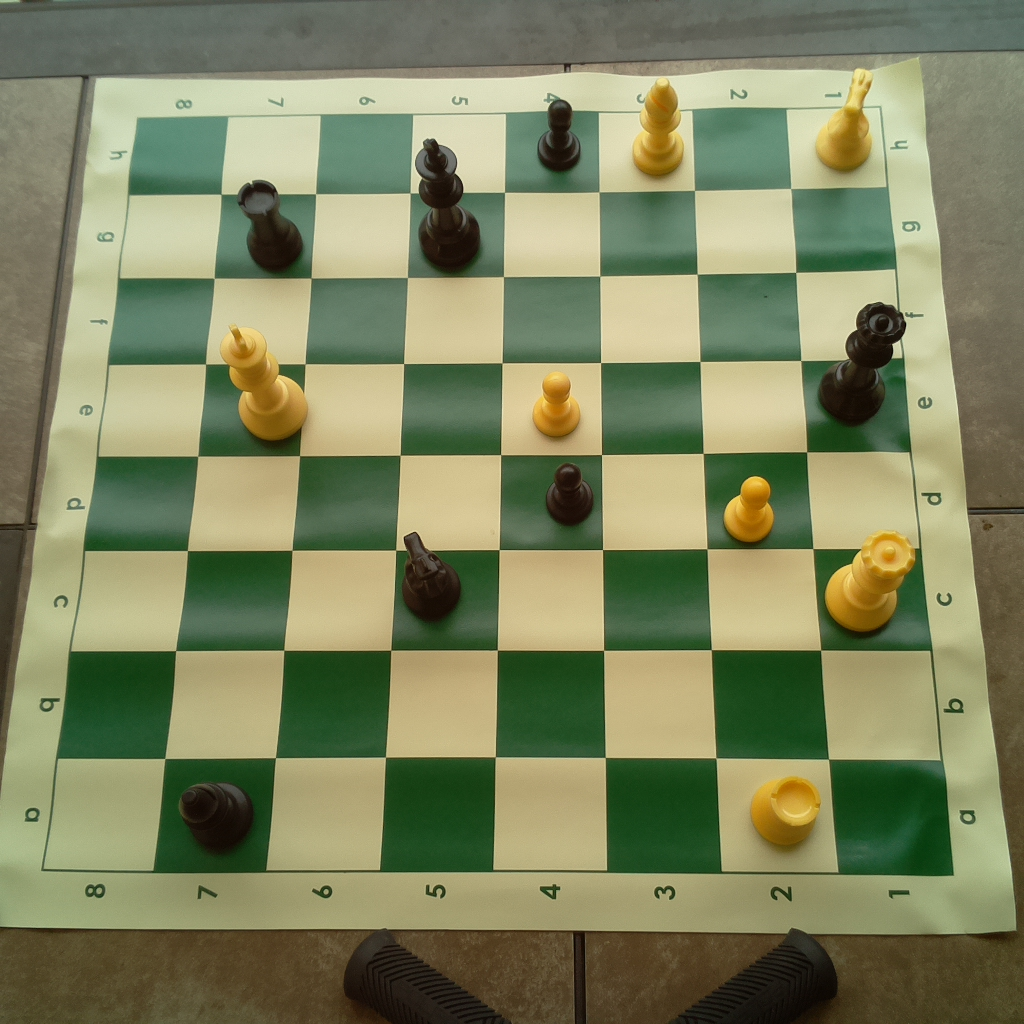black_bishop: (177, 775, 258, 853)
black_king: (410, 136, 489, 275)
black_knight: (398, 531, 463, 625)
black_pawn: (545, 460, 602, 530), (534, 97, 586, 171)
black_queen: (812, 296, 912, 430)
black_rook: (234, 178, 307, 275)
file_a: (46, 760, 955, 874)
file_b: (59, 651, 941, 761)
file_c: (68, 552, 932, 651)
file_d: (84, 452, 925, 549)
file_e: (101, 362, 911, 453)
file_f: (106, 270, 902, 358)
file_g: (119, 186, 894, 279)
file_h: (128, 105, 888, 186)
outline: (45, 106, 955, 877)
rank_1: (788, 106, 955, 874)
rank_2: (693, 108, 840, 873)
rank_3: (598, 112, 724, 873)
rank_4: (493, 113, 608, 870)
rank_5: (380, 113, 508, 874)
rank_6: (264, 113, 412, 877)
rank_7: (153, 114, 321, 875)
rank_8: (44, 117, 227, 873)
white_bishop: (625, 74, 688, 177)
white_king: (214, 319, 310, 445)
white_knight: (811, 64, 880, 173)
white_pawn: (718, 465, 776, 544), (531, 371, 586, 440)
white_queen: (820, 526, 916, 639)
white_rook: (745, 770, 827, 857)
